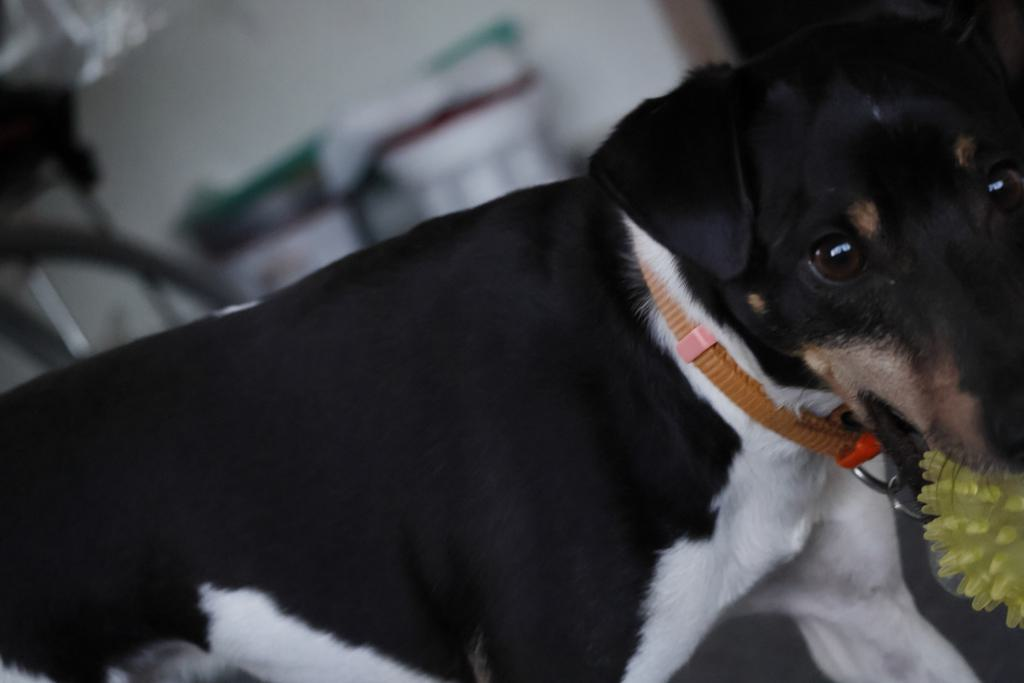Dog: (0, 16, 1024, 683)
